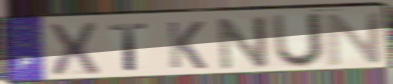K: (164, 20, 208, 71)
N: (325, 10, 385, 68), (216, 15, 271, 73)
T: (107, 22, 152, 73)
U: (270, 11, 326, 70)
X: (46, 21, 102, 79)
